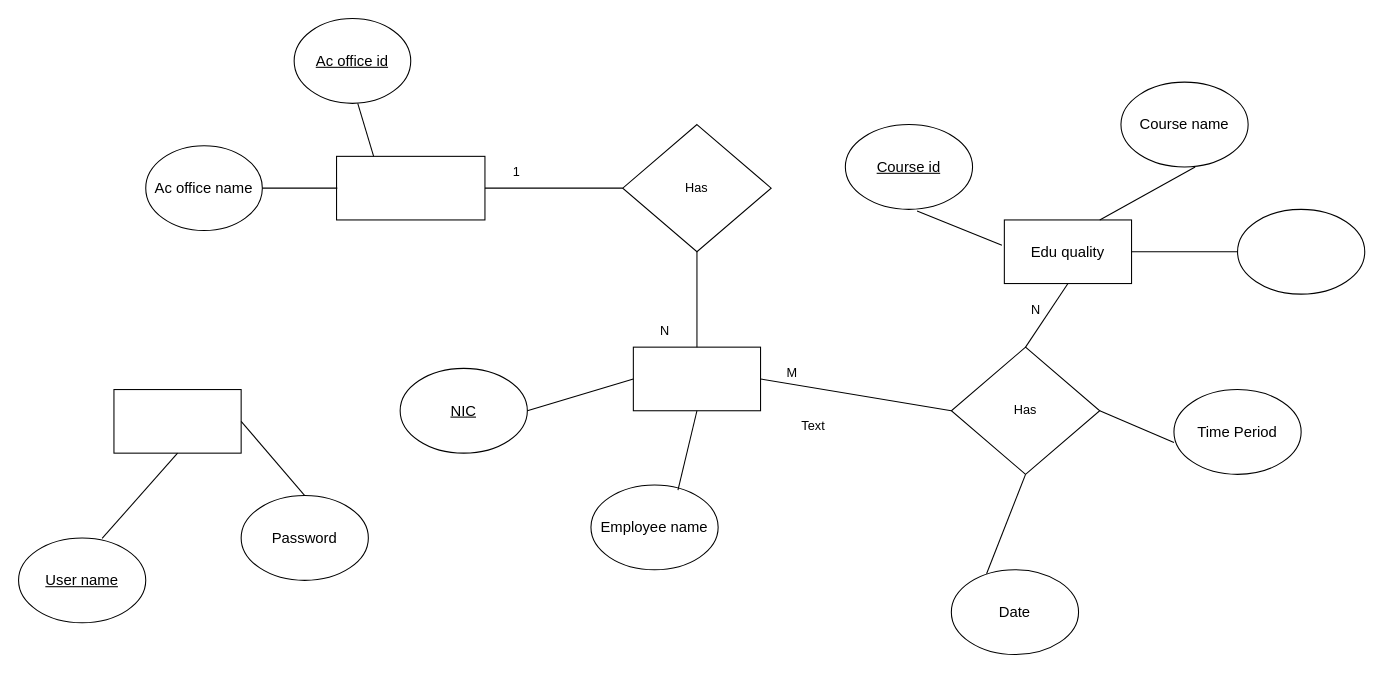
Image size: 1384x673. Some labels were removed from this diagram. The shapes that lost their labels are listed below. From the top down, each one's centre as x and y in pixels, then its label:
the point at 410,187: Ac office
the point at 1300,251: Course type
the point at 696,378: Employee
the point at 177,420: Admin
